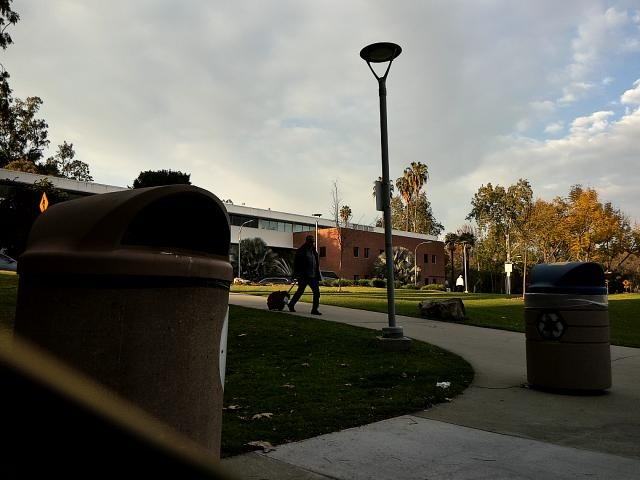trashcan: (13, 180, 256, 466), (516, 253, 618, 401)
